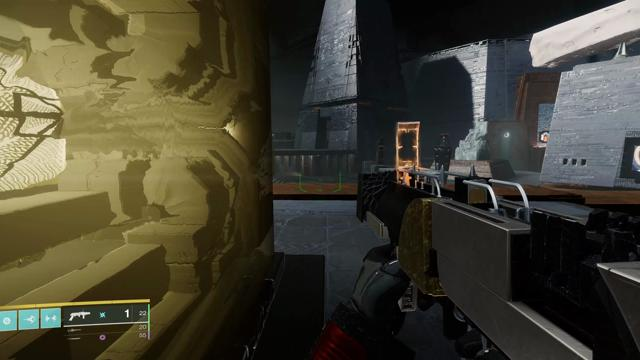traveler: (632, 145, 640, 172)
worship: (541, 132, 549, 142)
